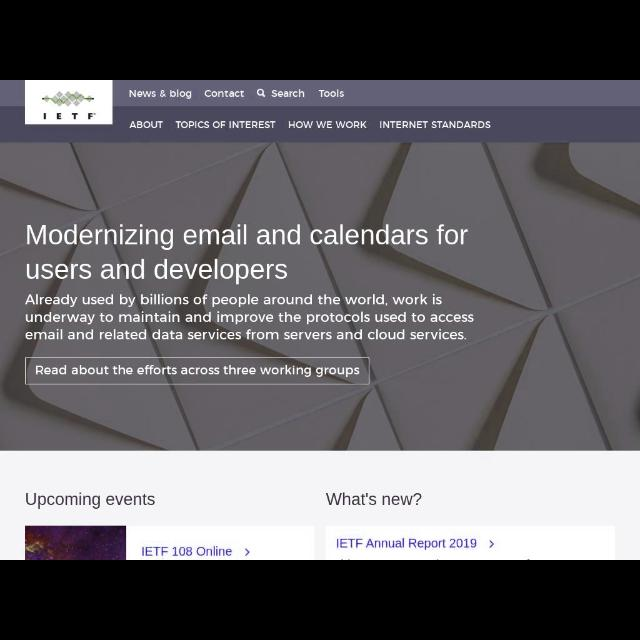icon: (488, 540, 496, 548), (244, 548, 252, 556), (258, 89, 264, 97)
image: (26, 80, 112, 124), (26, 526, 126, 558)
text: (27, 224, 469, 282), (26, 293, 476, 343), (36, 365, 360, 377), (25, 493, 155, 511), (326, 492, 422, 508), (336, 538, 476, 548), (140, 544, 232, 558), (378, 120, 490, 130), (176, 120, 276, 130), (288, 120, 367, 130), (129, 89, 193, 99), (206, 89, 244, 99), (129, 120, 163, 130), (272, 90, 302, 98), (320, 89, 344, 99)
textbutton: (26, 358, 368, 384)
